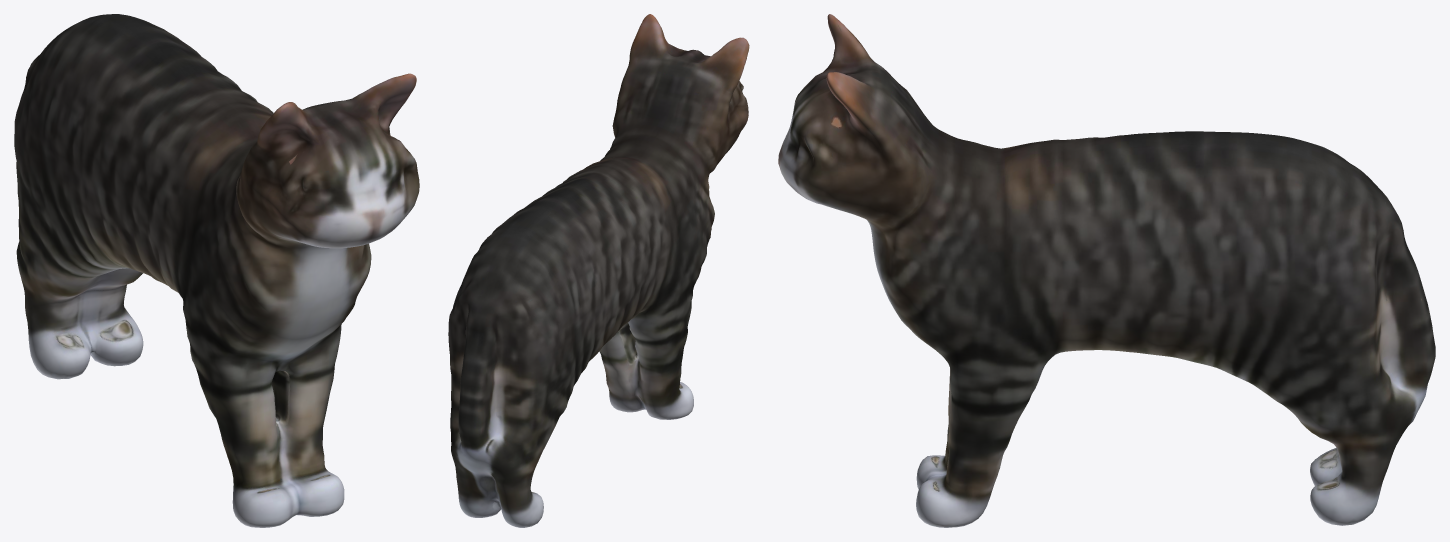
File: 71a64711481e_5c6e372e9d23_cat__3d_asset_0_glb.glb
3 renders of one model, left to right at view 1: azimuth 30°, elevation 25°; view 2: azimuth 150°, elevation 25°; view 3: azimuth 270°, elevation 25°, orthographic. The views are drawn at different scales.
Visible parts, largest first — view 1: mesh; view 2: mesh; view 3: mesh.
Part boxes in pixels (<box>): mesh: <box>14,14,419,527</box>; mesh: <box>448,14,749,527</box>; mesh: <box>778,14,1435,527</box>.
Bounding box in the file's own units: 0.2535 × 0.7765 × 0.9993.
1 material, 1 textured.
